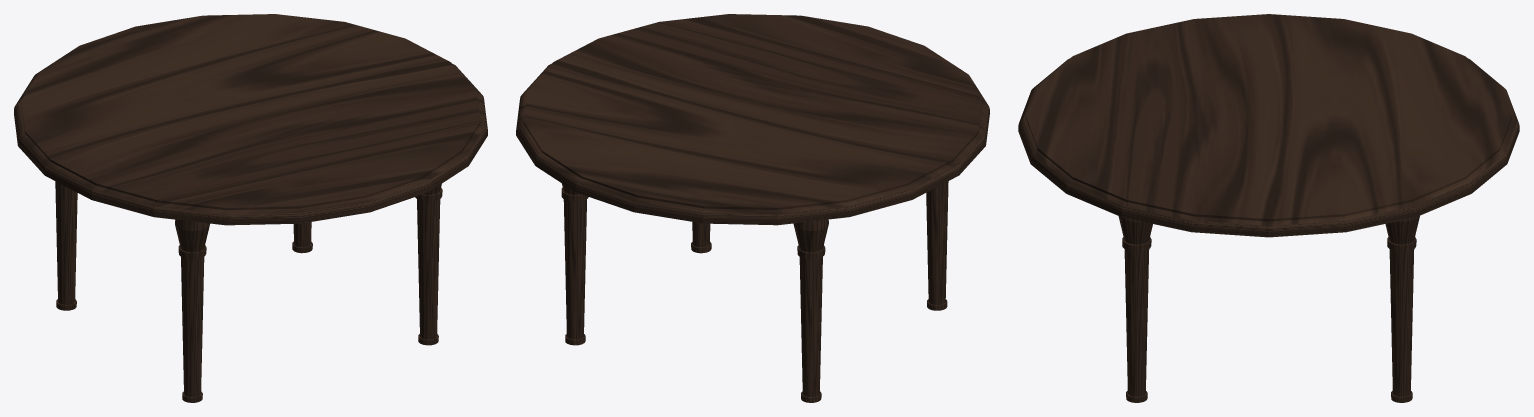
Rendered from table.fbx.
3 renders of one model, left to right at view 1: azimuth 30°, elevation 25°; view 2: azimuth 150°, elevation 25°; view 3: azimuth 270°, elevation 25°, orthographic. The views are drawn at different scales.
Parts seen in each view (by area): view 1: table_top; view 2: table_top; view 3: table_top.
Boxes of the visible parts, bbox=[...] form: table_top: bbox=[14, 14, 487, 402]; table_top: bbox=[516, 14, 989, 402]; table_top: bbox=[1018, 14, 1519, 402].
Bounding box in the file's own units: 454 × 223 × 454.
